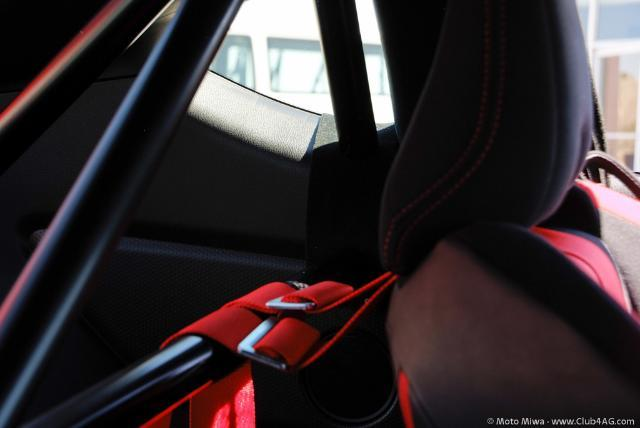Seatbelt: (140, 268, 396, 428), (312, 0, 384, 188)
